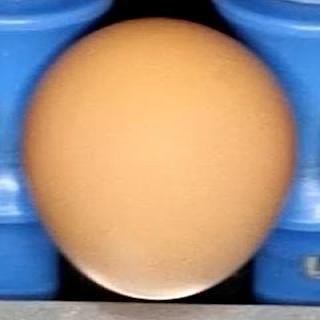Telur: (16, 16, 309, 303)
